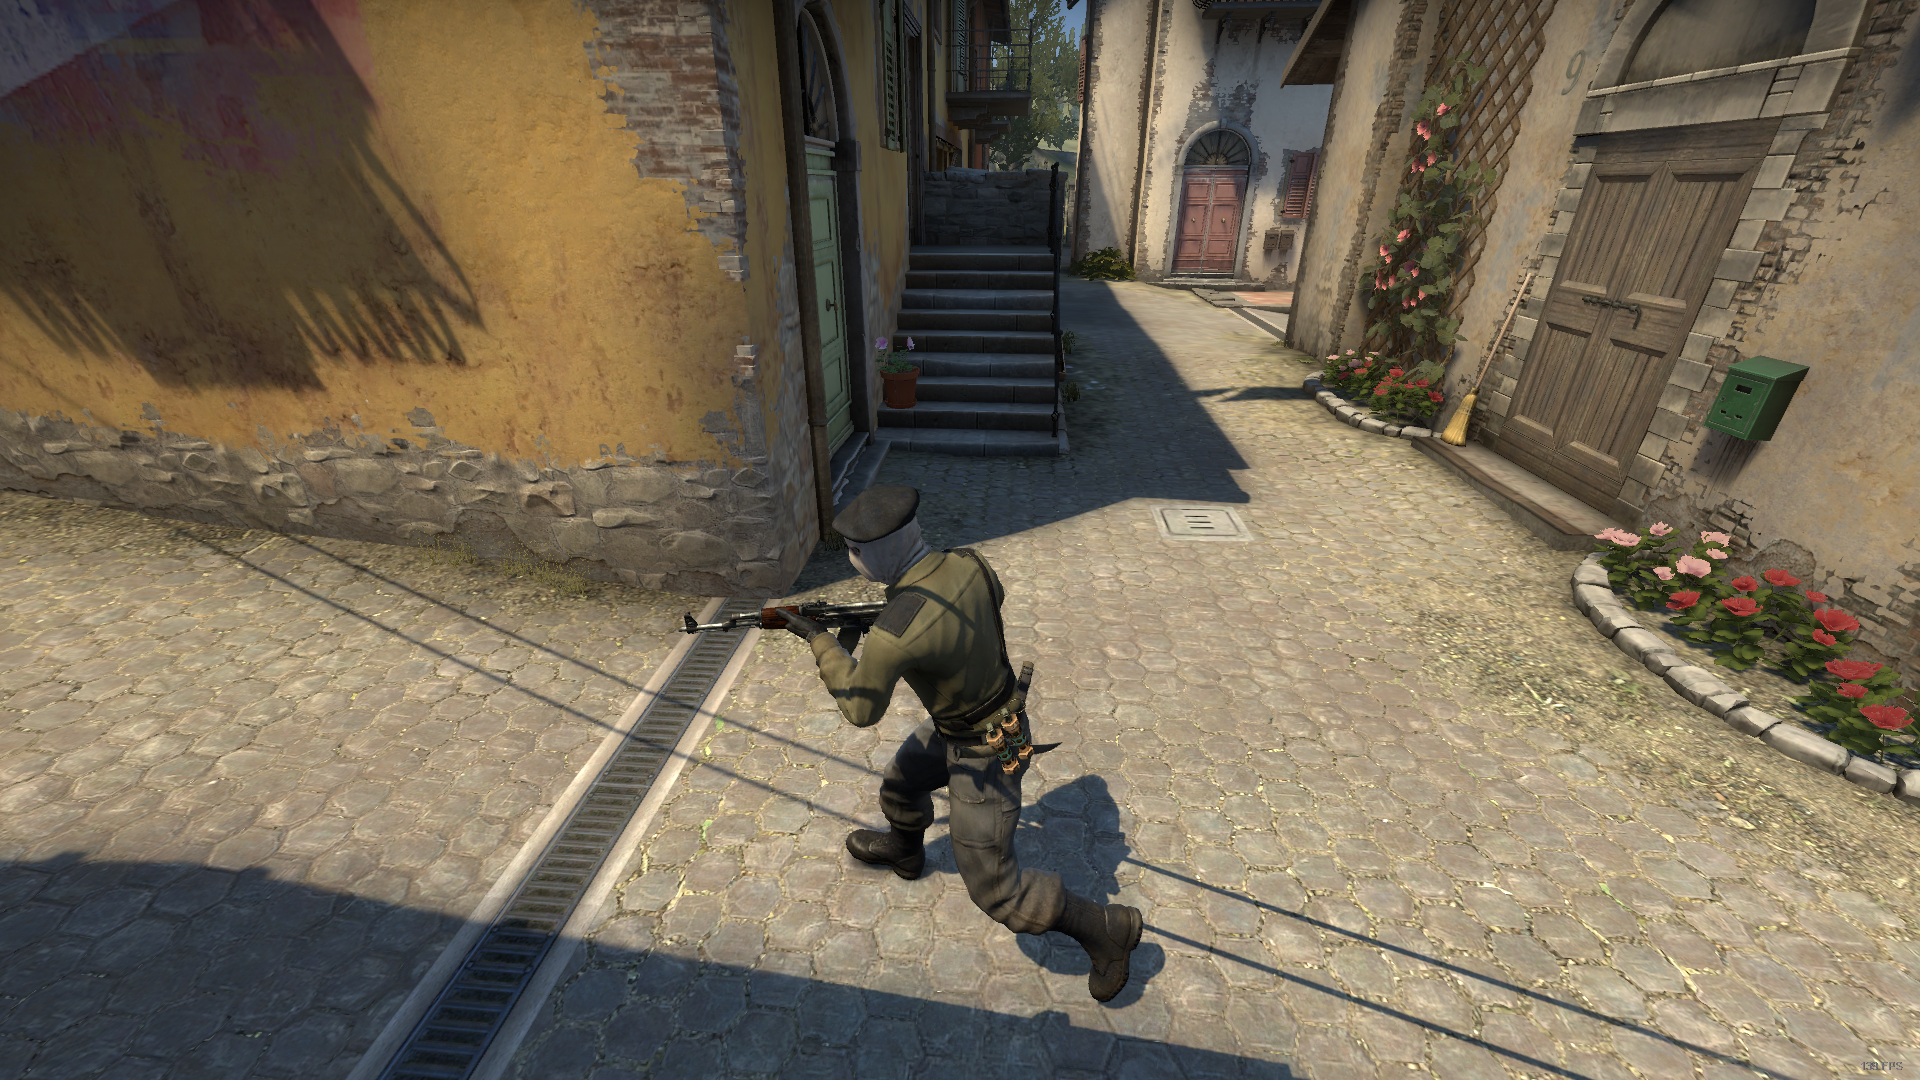t: (779, 487, 1143, 1004)
